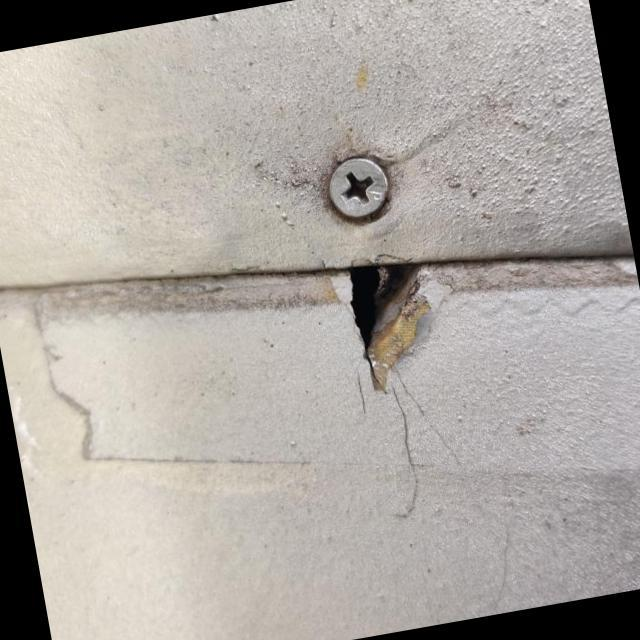Rupture: (291, 213, 490, 428)
